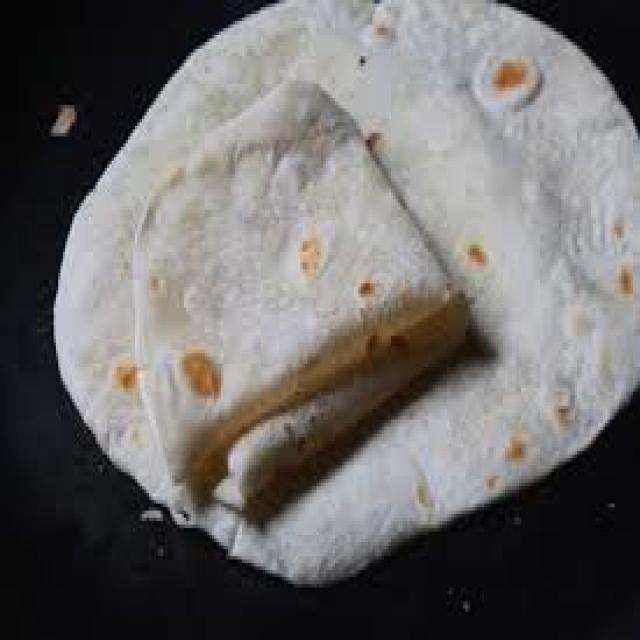RICE BHAKRI: (51, 0, 638, 587), (130, 79, 476, 515)
